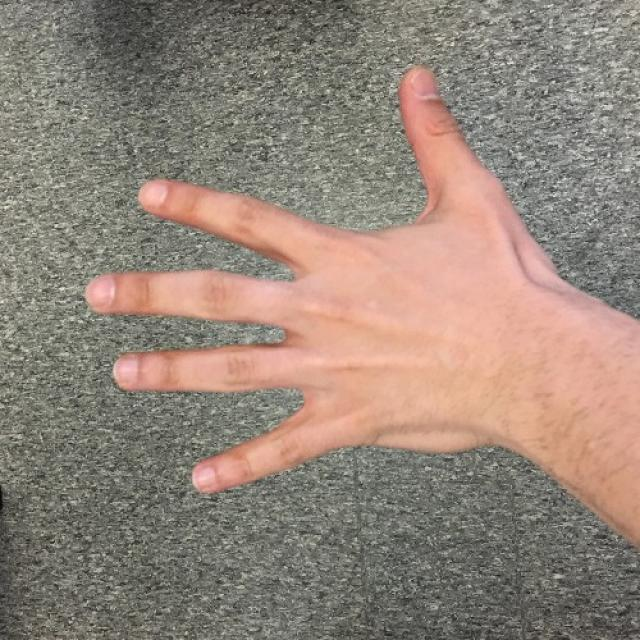paper: (80, 66, 542, 493)
